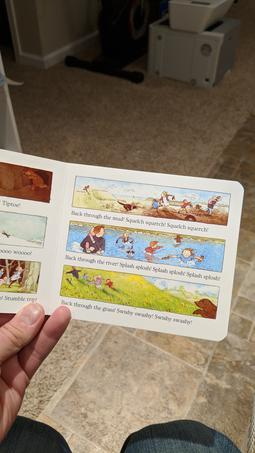text block: (58, 297, 203, 330), (64, 255, 221, 284), (64, 207, 216, 234), (1, 247, 38, 262), (1, 295, 42, 306), (1, 198, 27, 209)
